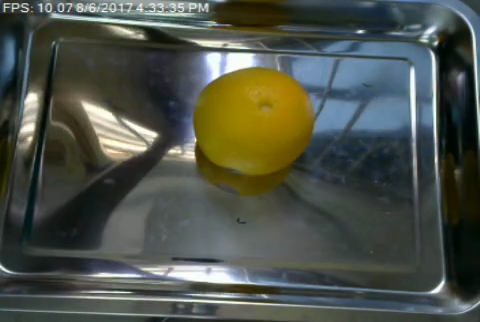Orange: (193, 67, 317, 174)
